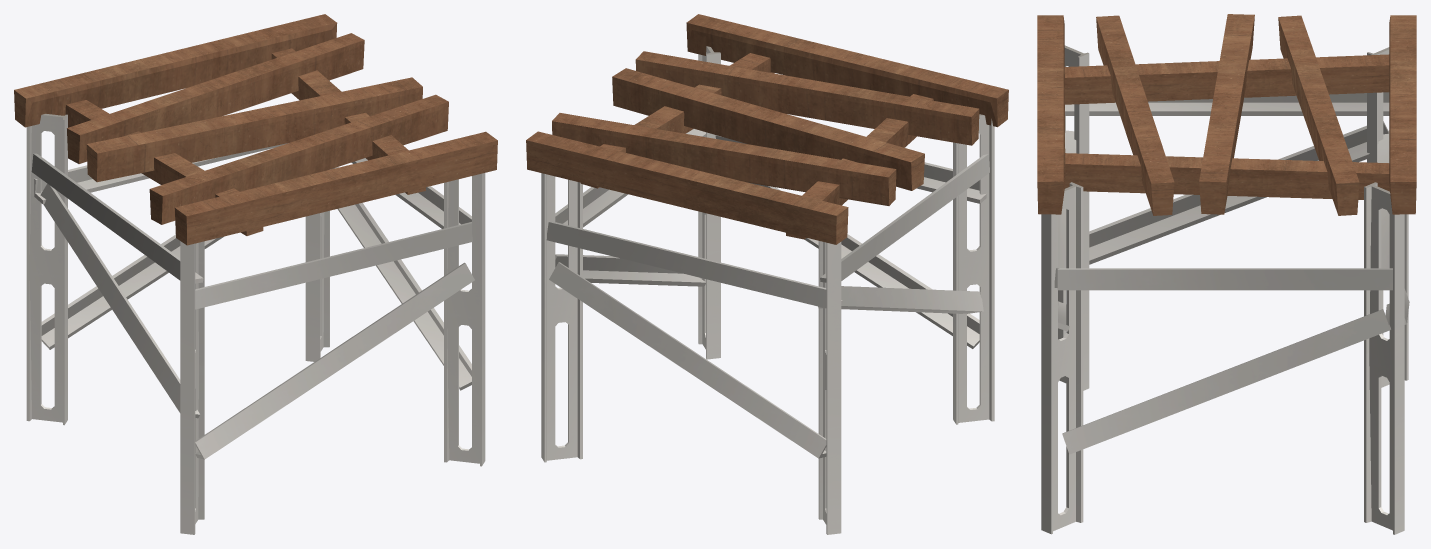
The model's file is builderFloor_WIP.FBX.
3 renders of one model, left to right at view 1: azimuth 30°, elevation 25°; view 2: azimuth 150°, elevation 25°; view 3: azimuth 270°, elevation 25°, orthographic. The views are drawn at different scales.
Parts seen in each view (by area): view 1: builderFloor_WIP_LOD0; view 2: builderFloor_WIP_LOD0; view 3: builderFloor_WIP_LOD0.
Boxes of the visible parts, x1=… form: builderFloor_WIP_LOD0: x1=14, y1=14, x2=497, y2=534; builderFloor_WIP_LOD0: x1=526, y1=14, x2=1008, y2=534; builderFloor_WIP_LOD0: x1=1037, y1=14, x2=1416, y2=534.
Size of what is drawn, in the model's own units: 3.18 by 3.12 by 3.
